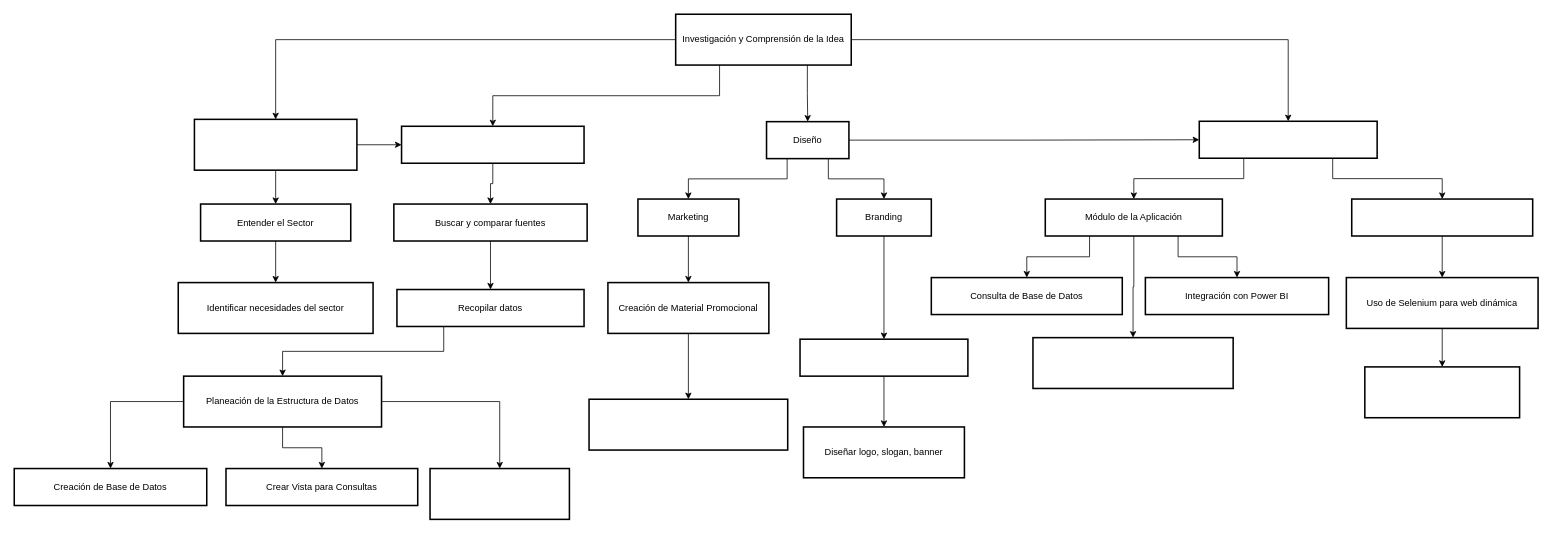
The diagram is 1552 pixels wide and 533 high, and some of its shapes have lost their labels. The shapes that lost their labels are listed below. From the top down, each one's centre as x and y in pixels, then its label:
pixel 275 144: Definición del Sector Objetivo
pixel 492 144: Investigación de Fuentes
pixel 1288 139: Desarrollo del Prototipo
pixel 1442 217: Módulo de Web Scraping
pixel 883 357: Creación de Identidad
pixel 1133 362: Implementación de Interfaz con Streamlit
pixel 1442 392: Uso de Scrapy para extracción de datos
pixel 688 424: Pitch y Demo
pixel 499 493: Planeación de Almacenamiento
